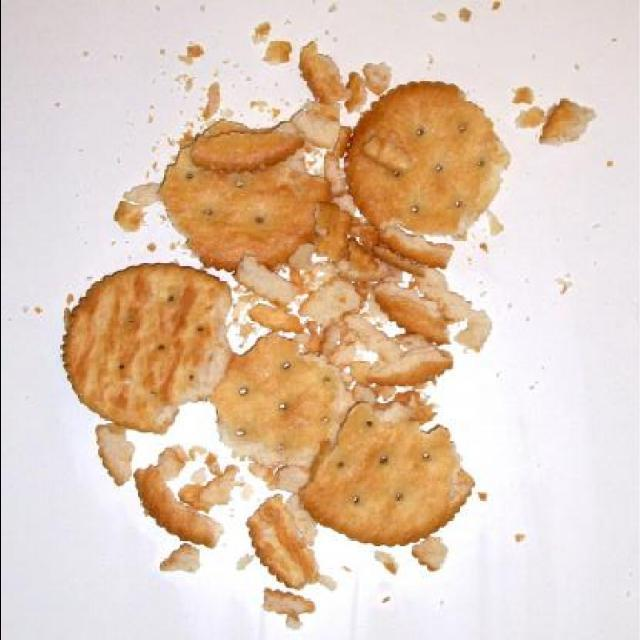Ritz cracker packaged: (50, 22, 587, 626)
